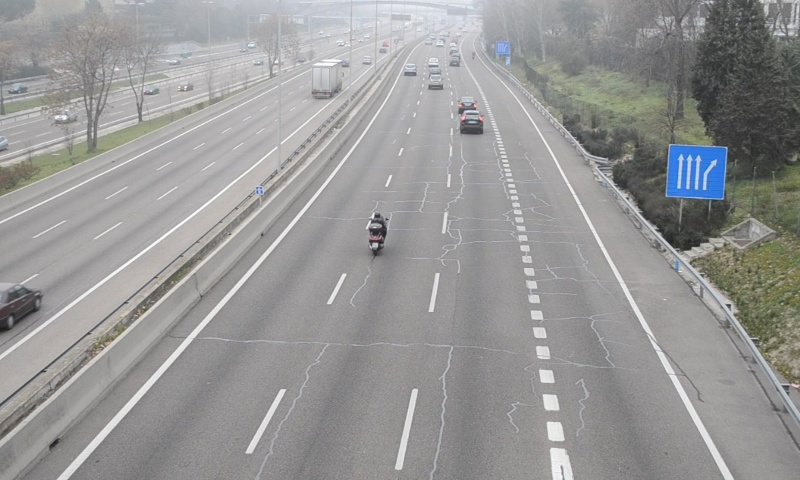car: (459, 110, 485, 134), (457, 96, 477, 112)
motorcycle: (366, 211, 388, 256)
